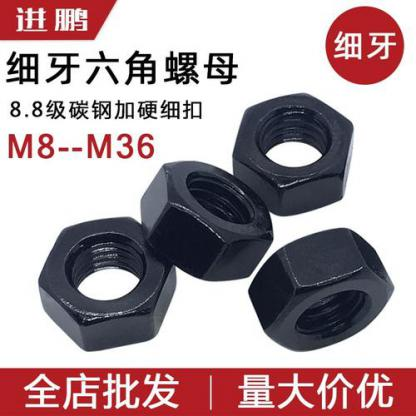FOD: (37, 213, 178, 354), (246, 225, 394, 352), (134, 156, 276, 284), (228, 87, 356, 216)
